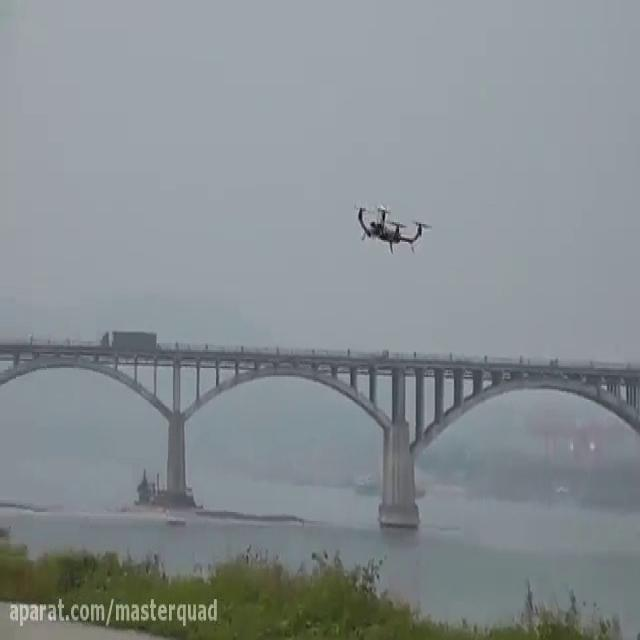drone: (352, 192, 434, 258)
